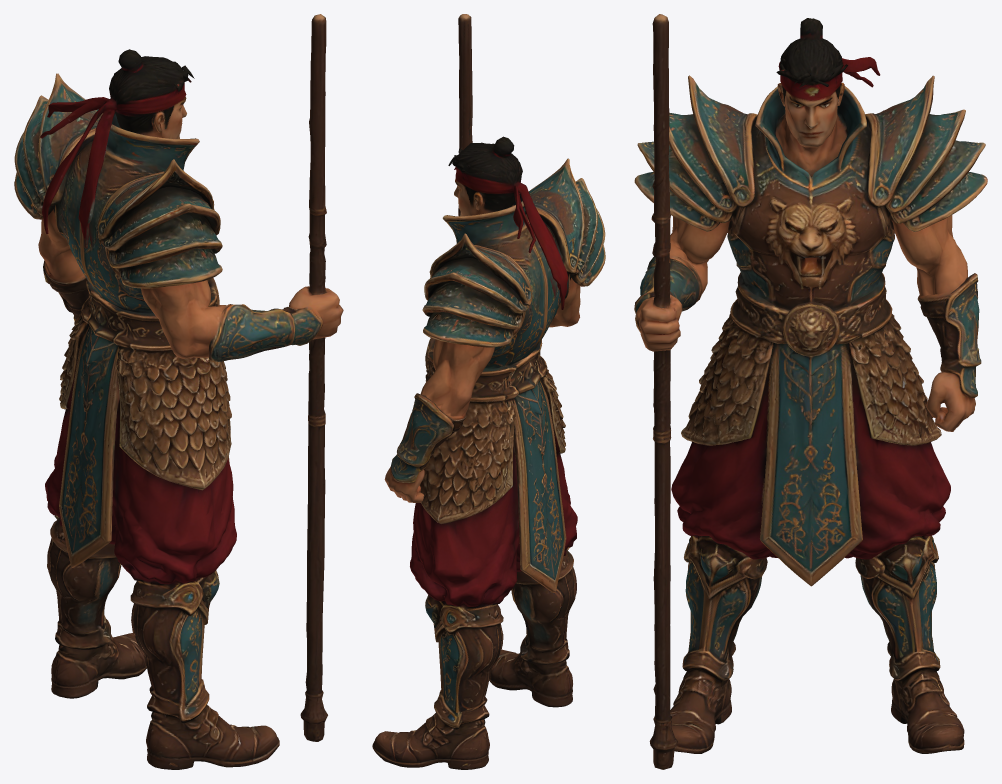
File: vanguard2_T5-tripo.glb
The picture shows the model from 3 angles, left to right: view 1: azimuth 30°, elevation 25°; view 2: azimuth 150°, elevation 25°; view 3: azimuth 270°, elevation 25°; orthographic projection. The views are drawn at different scales.
Visible parts, largest first — view 1: tripo_node_1c3c97f2-cd5b-474e-902a-639e44cfa2d6; view 2: tripo_node_1c3c97f2-cd5b-474e-902a-639e44cfa2d6; view 3: tripo_node_1c3c97f2-cd5b-474e-902a-639e44cfa2d6.
Part boxes in pixels (left/top/right/bottom): tripo_node_1c3c97f2-cd5b-474e-902a-639e44cfa2d6: left=14, top=14, right=343, bottom=769; tripo_node_1c3c97f2-cd5b-474e-902a-639e44cfa2d6: left=372, top=14, right=605, bottom=769; tripo_node_1c3c97f2-cd5b-474e-902a-639e44cfa2d6: left=634, top=14, right=987, bottom=769.
Size of the model in its own units: 0.3027 by 1 by 0.4188.
Materials: 1 (1 with a texture image).
